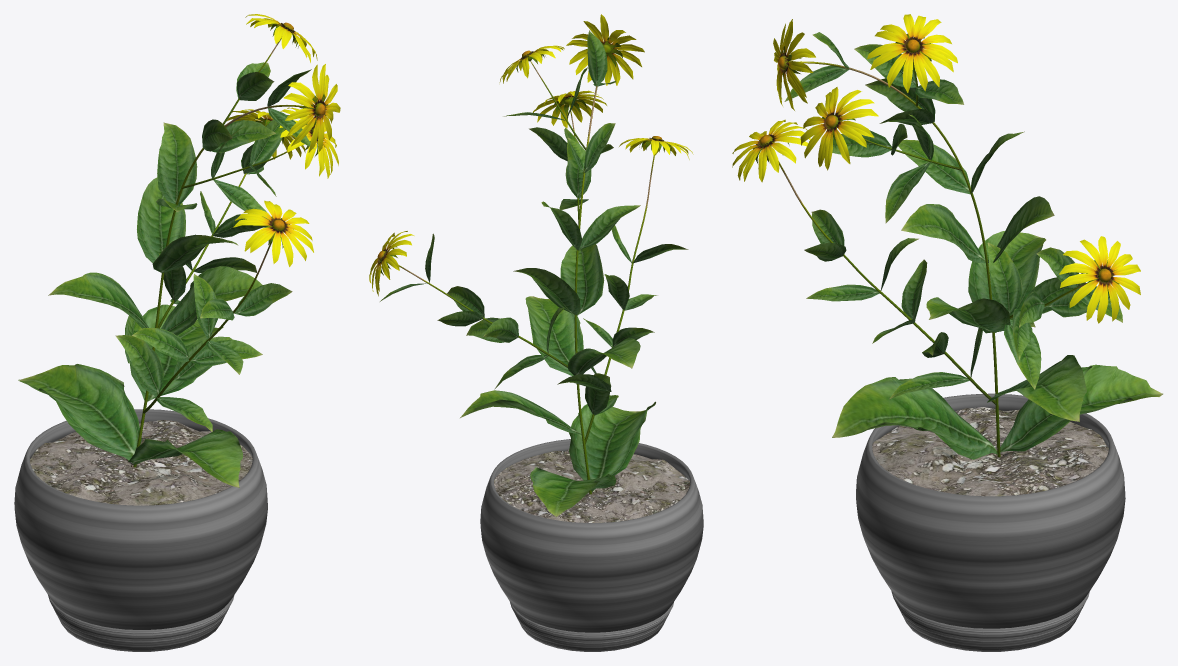
The model's file is 菊花瓶.FBX.
3 renders of one model, left to right at view 1: azimuth 30°, elevation 25°; view 2: azimuth 150°, elevation 25°; view 3: azimuth 270°, elevation 25°, orthographic. The views are drawn at different scales.
Parts seen in each view (by area): view 1: Box001, Cone001, 菊花瓶, Material #42, 对象001, Material #45; view 2: Cone001, Box001, 菊花瓶, Material #42, 对象001, Material #45; view 3: Box001, Cone001, Material #42, 菊花瓶, 对象001, Material #44.
Part boxes in pixels (x1,y1,x2,y2): Box001: (18, 62, 314, 487); Cone001: (14, 409, 267, 651); 菊花瓶: (30, 420, 252, 505); Material #42: (226, 14, 340, 266); 对象001: (133, 37, 302, 467); Material #45: (254, 23, 328, 248); Cone001: (480, 439, 703, 651); Box001: (380, 30, 688, 516); 菊花瓶: (494, 449, 690, 522); Material #42: (369, 14, 693, 296); 对象001: (399, 61, 654, 494); Material #45: (377, 37, 671, 275); Box001: (784, 32, 1162, 459); Cone001: (856, 393, 1125, 651); Material #42: (732, 14, 1140, 323); 菊花瓶: (872, 407, 1108, 496); 对象001: (778, 56, 1086, 457); Material #44: (759, 39, 1111, 282).
Bounding box in the file's own units: 45.3 × 83.11 × 50.52.
